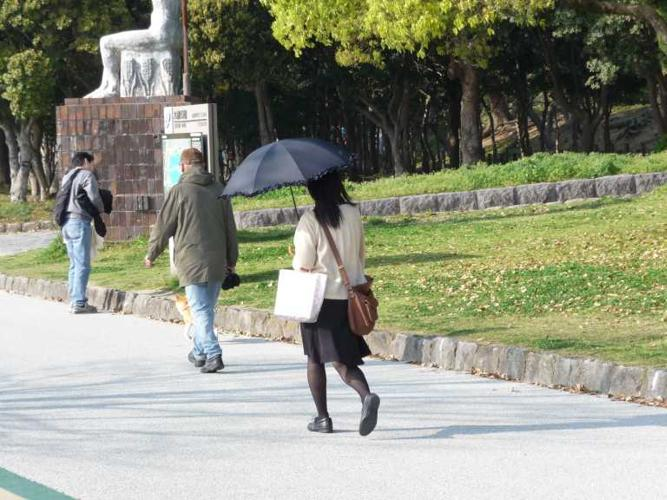person: (293, 171, 382, 438)
